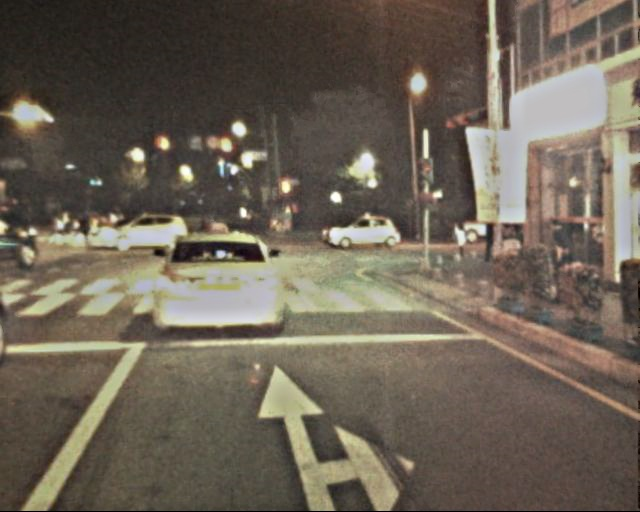person: (546, 217, 573, 295), (451, 218, 472, 266), (288, 208, 311, 232), (210, 206, 223, 238), (57, 201, 69, 231), (80, 205, 92, 235), (199, 209, 211, 238)
